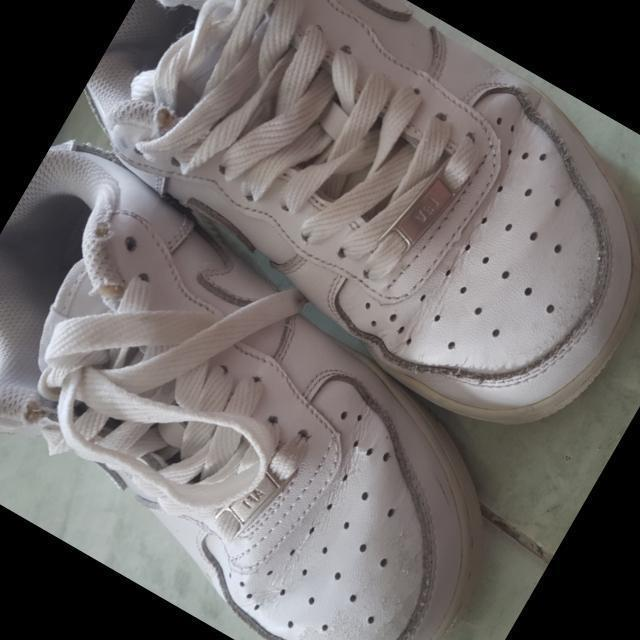nike original air force: (67, 0, 618, 640), (0, 0, 428, 564)
